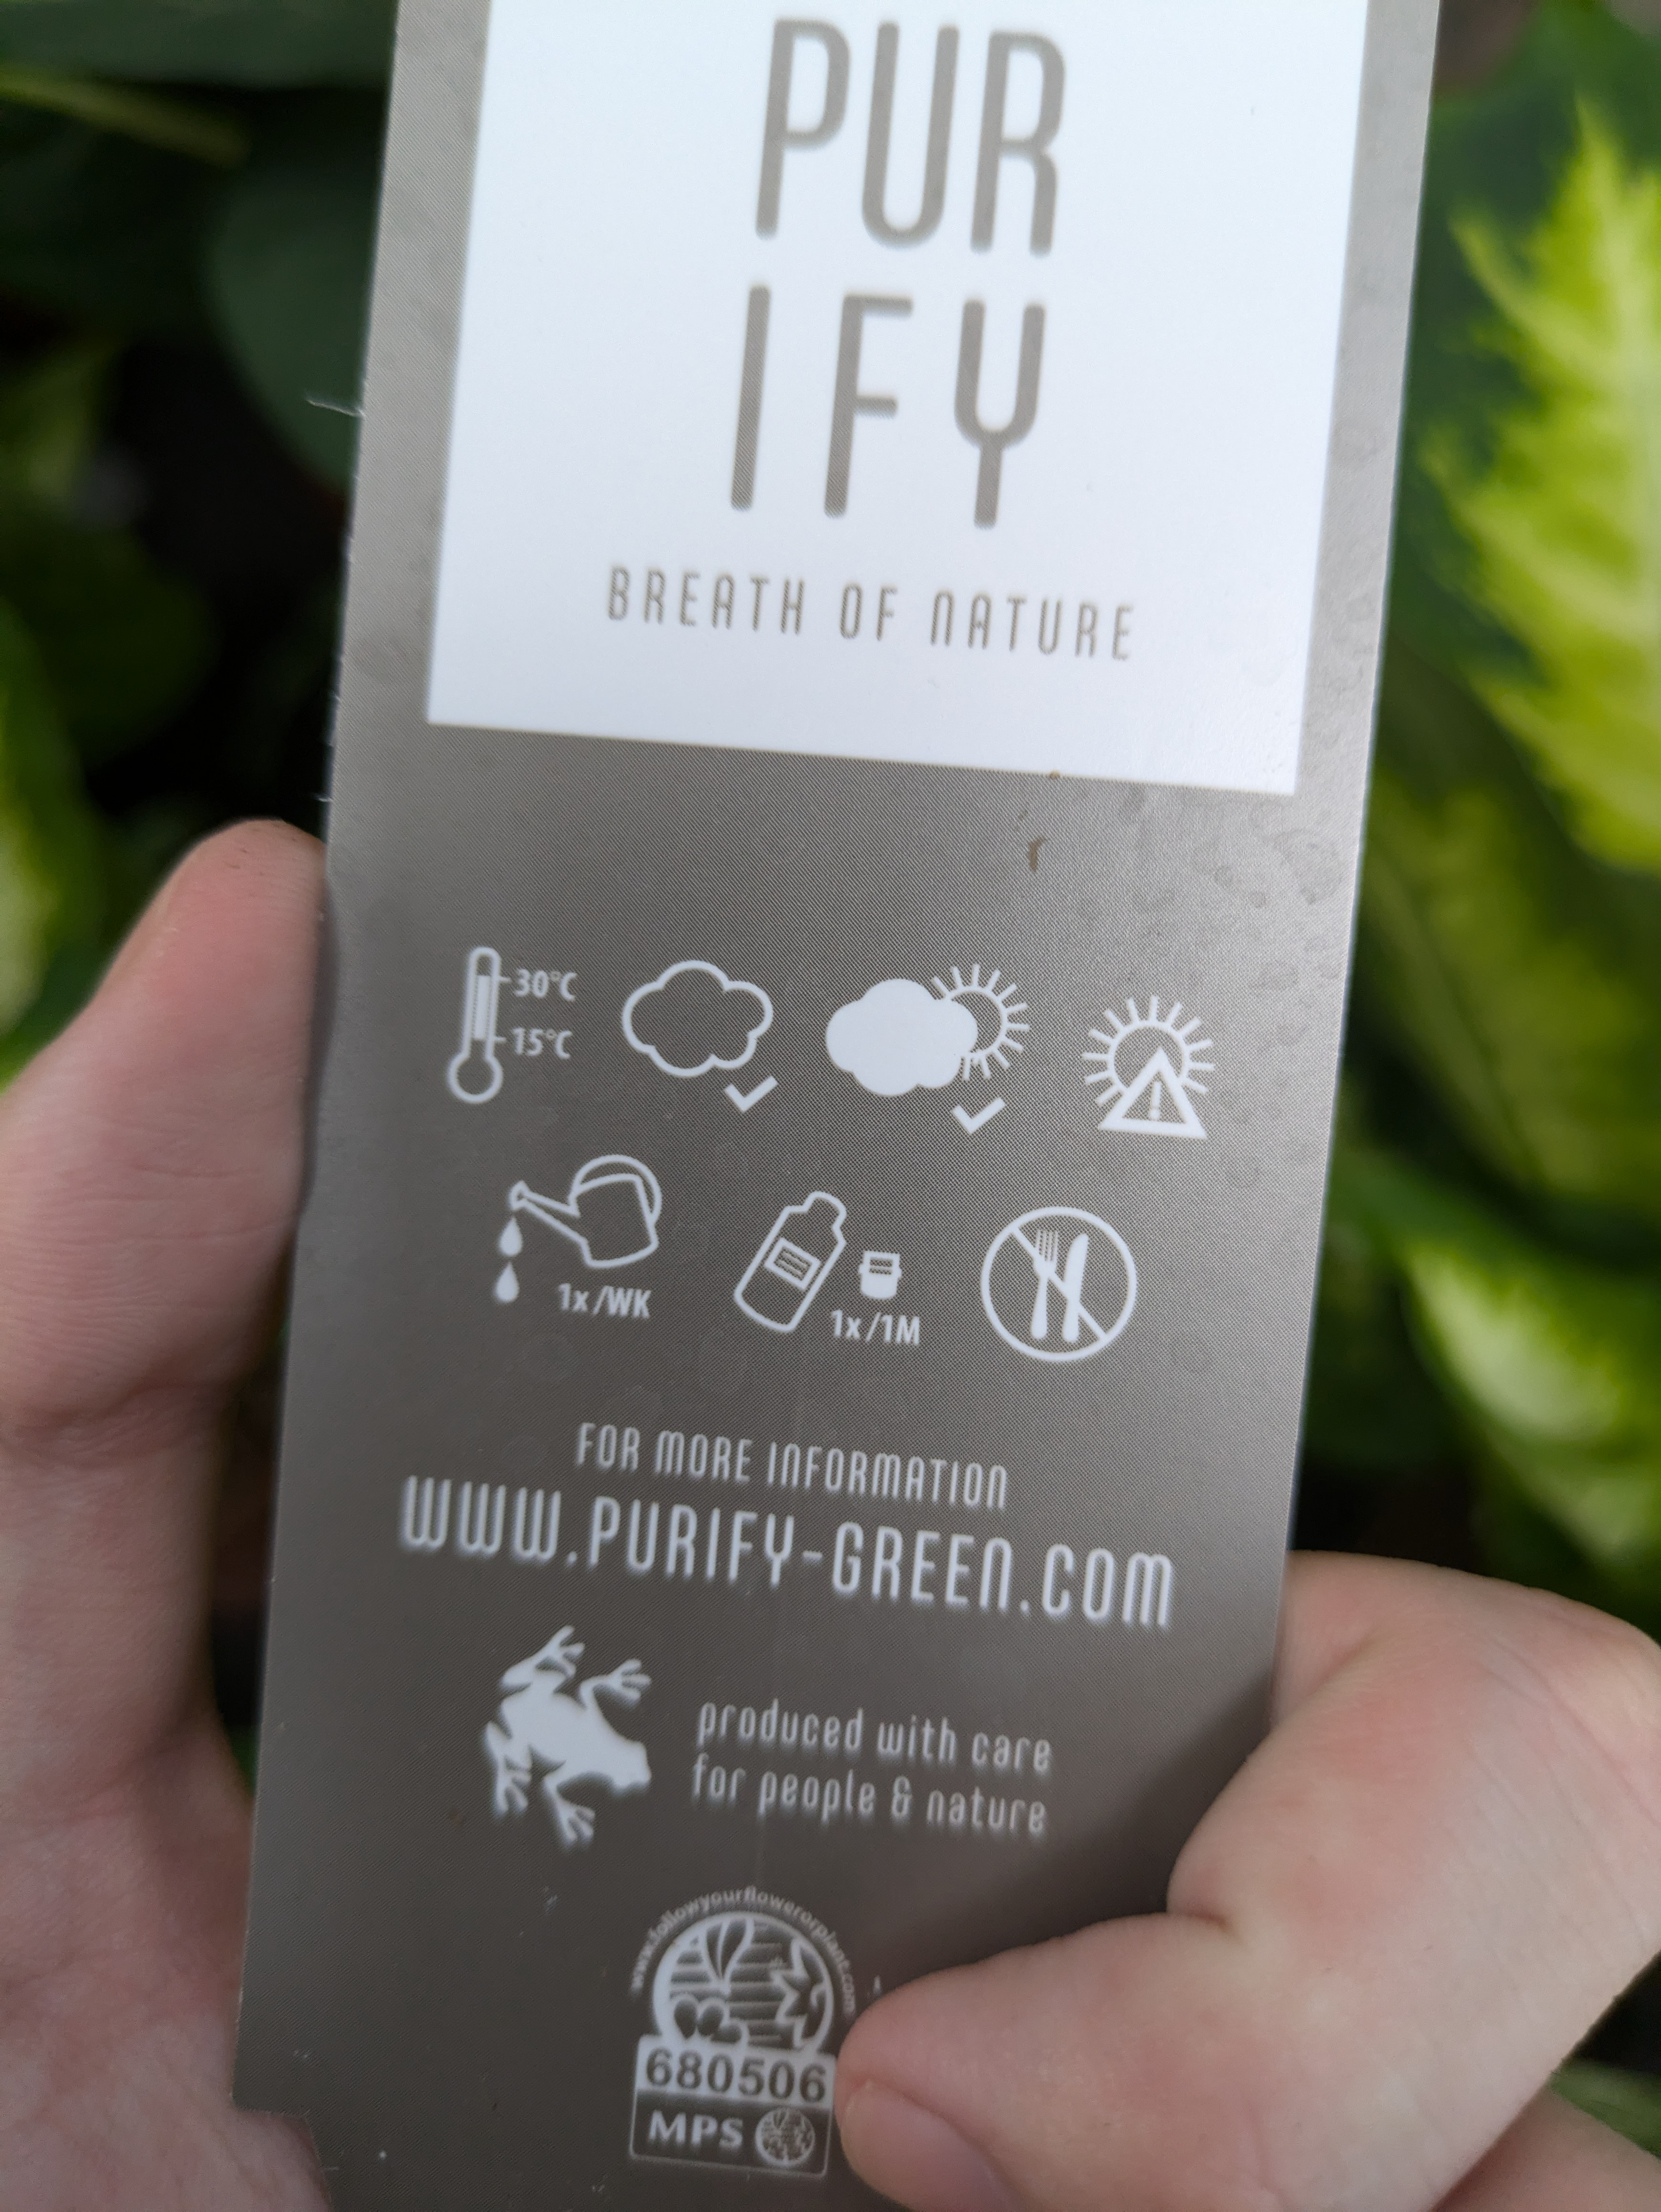Düngen 1x Monatlich: (733, 1158, 925, 1352)
keine Sonne: (1085, 963, 1220, 1143)
mittel oft gießen: (478, 1134, 668, 1314), (604, 947, 790, 1115)
schattig: (818, 947, 1028, 1139)
